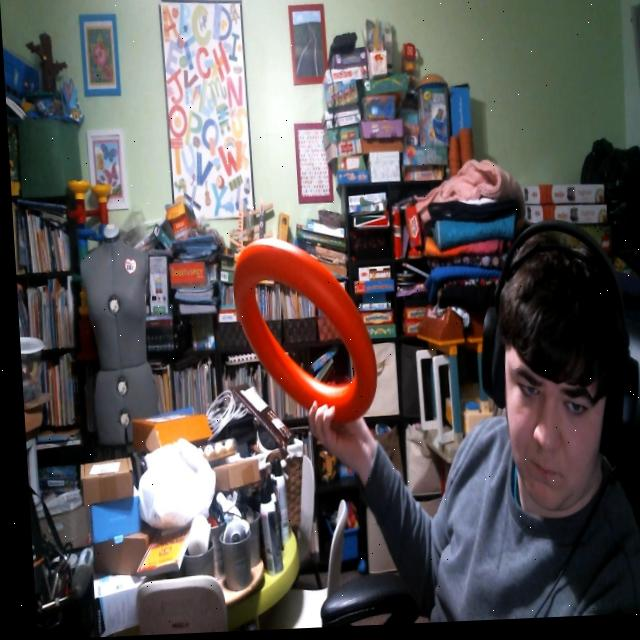note: (225, 237, 374, 440)
